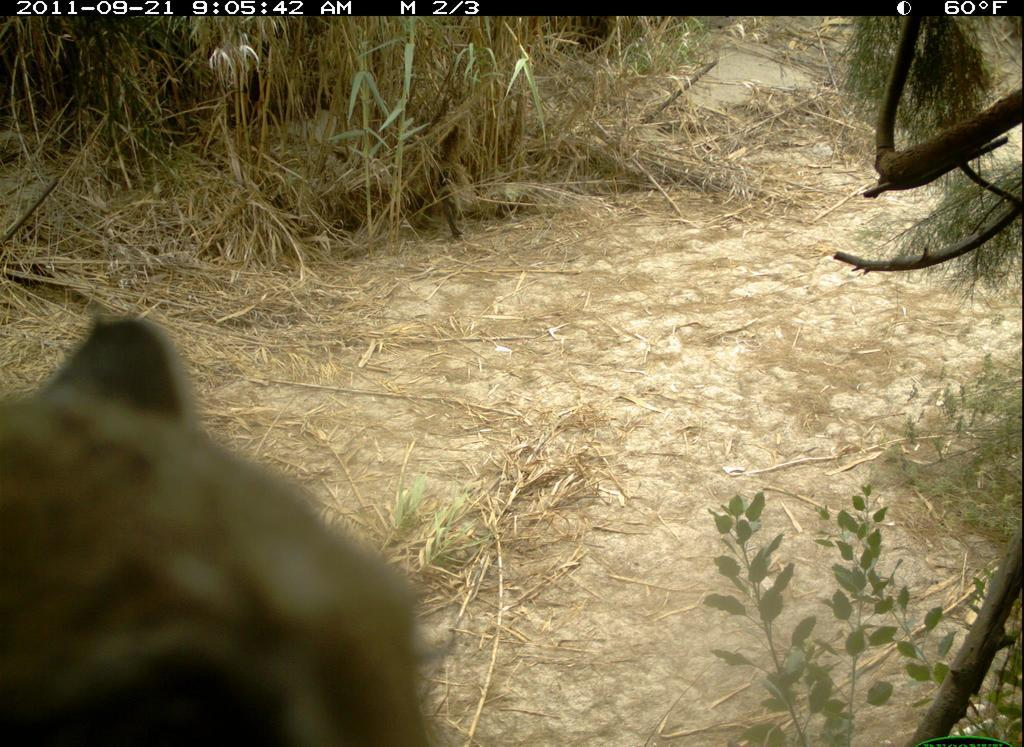bobcat: (2, 305, 465, 747)
